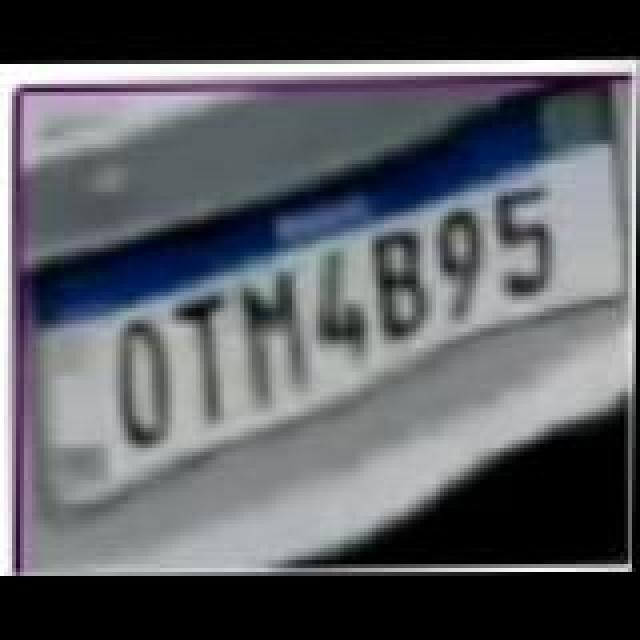4: (314, 248, 374, 364)
5: (492, 186, 560, 302)
9: (436, 210, 492, 322)
B: (372, 228, 436, 344)
M: (240, 270, 312, 406)
O: (116, 316, 180, 452)
T: (178, 296, 238, 428)
